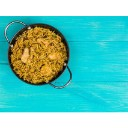briyani: (14, 31, 63, 77)
